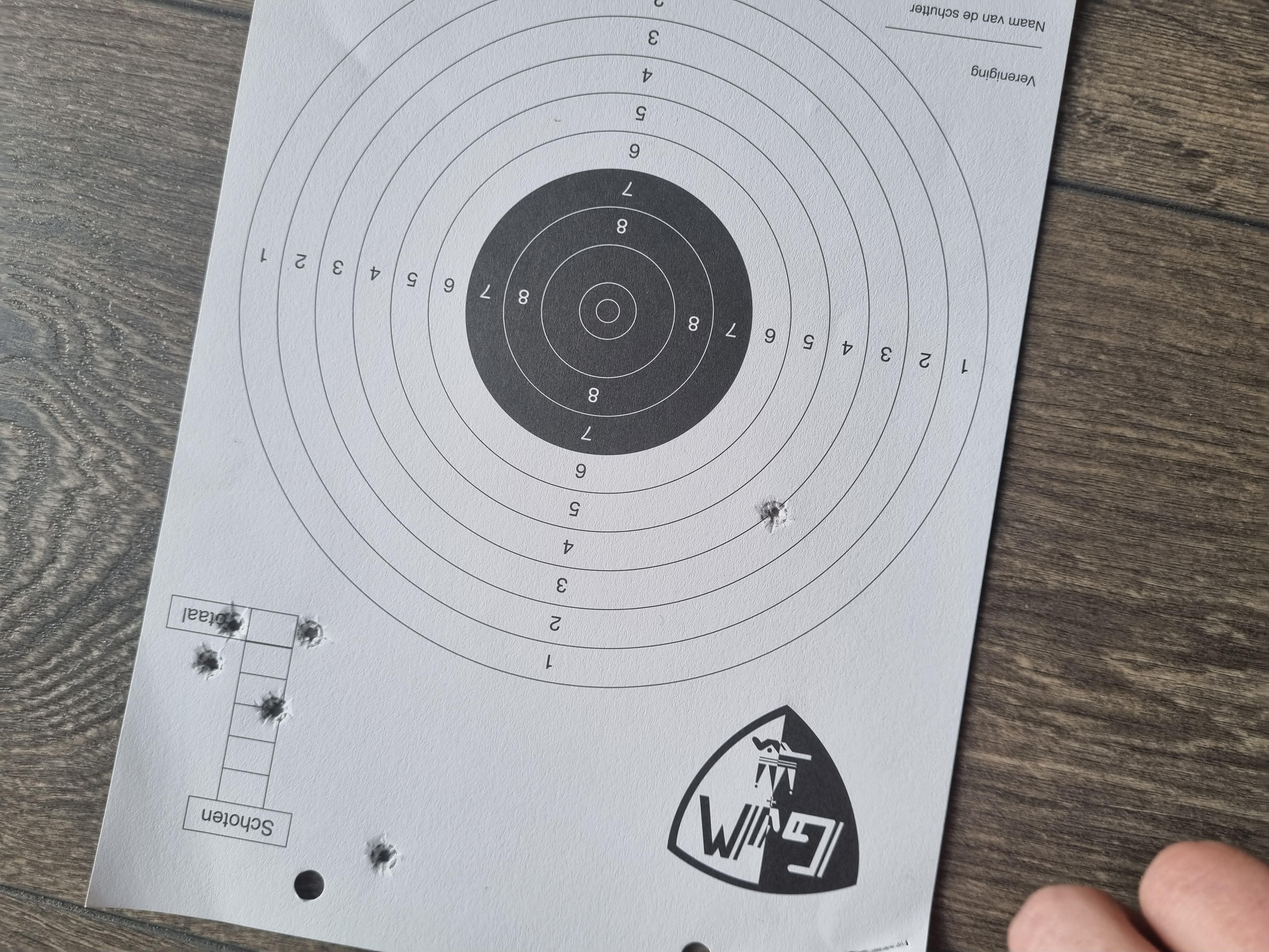hole: (100, 274, 158, 299), (300, 191, 348, 220), (412, 162, 468, 186), (360, 143, 413, 168), (403, 221, 445, 243), (564, 569, 602, 591)
